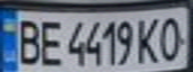1: (100, 17, 118, 65)
4: (63, 16, 87, 66), (81, 17, 103, 66)
9: (115, 16, 136, 65)
B: (12, 15, 42, 66)
E: (36, 16, 63, 66)
K: (136, 15, 163, 65)
O: (154, 12, 187, 63)
